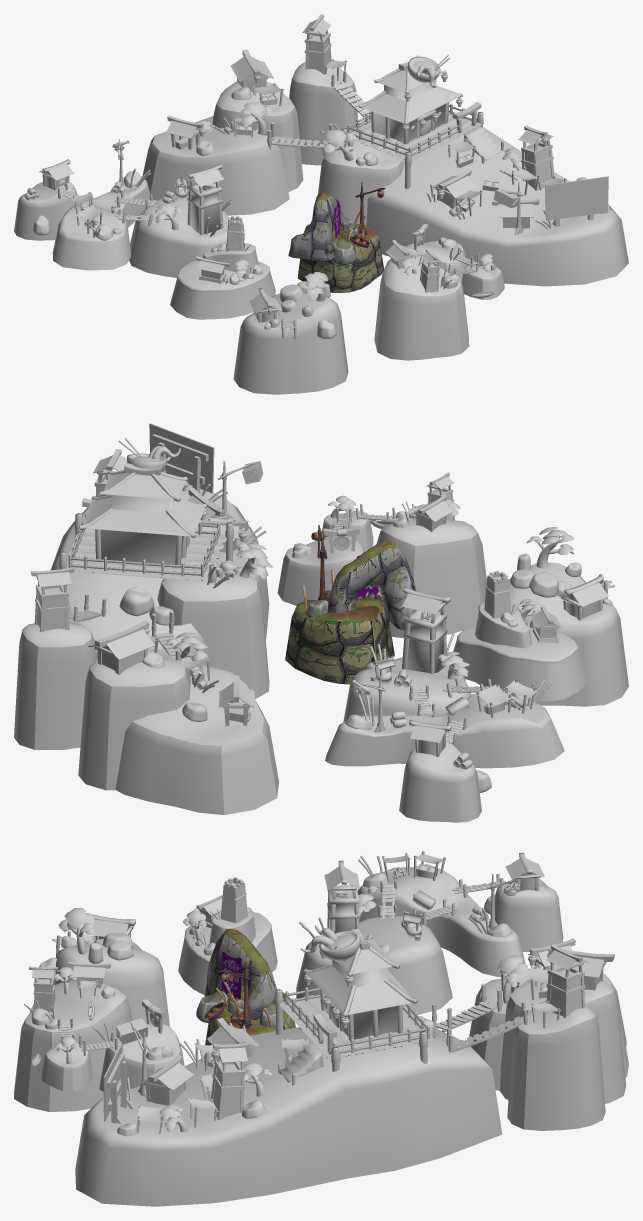
The model's file is black_market_map_assets.fbx.
3 views of the same model, one above another, from view 1: azimuth 30°, elevation 25°; view 2: azimuth 150°, elevation 25°; view 3: azimuth 270°, elevation 25° (orthographic). The views are drawn at different scales.
Visible parts, largest first — view 1: polySurface38, small_market_island1, gong_island, tree_island, tower_island1, grog_runner_island1; view 2: polySurface38, small_market_island1, gong_island, grog_runner_island1, tree_island, tower_island1; view 3: polySurface38, small_market_island1, gong_island, tree_island, grog_runner_island1, tower_island1.
Part boxes in pixels (x1=…): polySurface38: x1=142, y1=14, x2=628, y2=286; small_market_island1: x1=14, y1=138, x2=231, y2=277; gong_island: x1=374, y1=224, x2=504, y2=360; tree_island: x1=233, y1=272, x2=348, y2=394; tower_island1: x1=170, y1=216, x2=275, y2=319; grog_runner_island1: x1=288, y1=182, x2=385, y2=292; polySurface38: x1=14, y1=423, x2=278, y2=814; small_market_island1: x1=325, y1=587, x2=564, y2=822; gong_island: x1=277, y1=472, x2=486, y2=638; grog_runner_island1: x1=285, y1=525, x2=416, y2=684; tree_island: x1=508, y1=527, x2=628, y2=706; tower_island1: x1=453, y1=570, x2=586, y2=701; polySurface38: x1=75, y1=925, x2=628, y2=1206; small_market_island1: x1=296, y1=851, x2=563, y2=1015; gong_island: x1=14, y1=962, x2=184, y2=1111; tree_island: x1=39, y1=908, x2=169, y2=1025; grog_runner_island1: x1=196, y1=929, x2=295, y2=1045; tower_island1: x1=178, y1=877, x2=277, y2=994.
Bounding box in the file's own units: 26.16 × 10.5 × 24.1.
